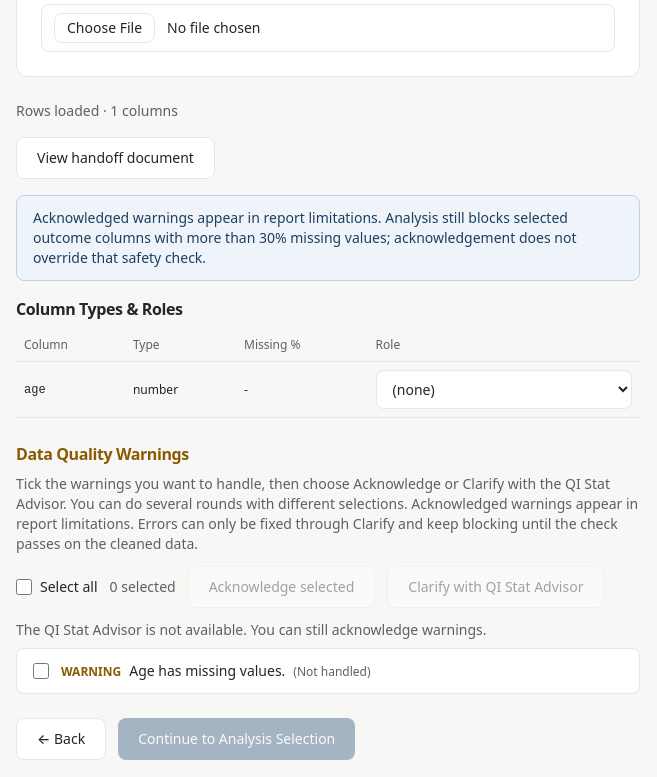
it: DataReview › disables Clarify but not Acknowledge when the advisor is unavailable
(page scrolled)
Click the checkbox labelled "Age has missing values" at (41, 671), box x1=33 y1=663 x2=49 y2=679
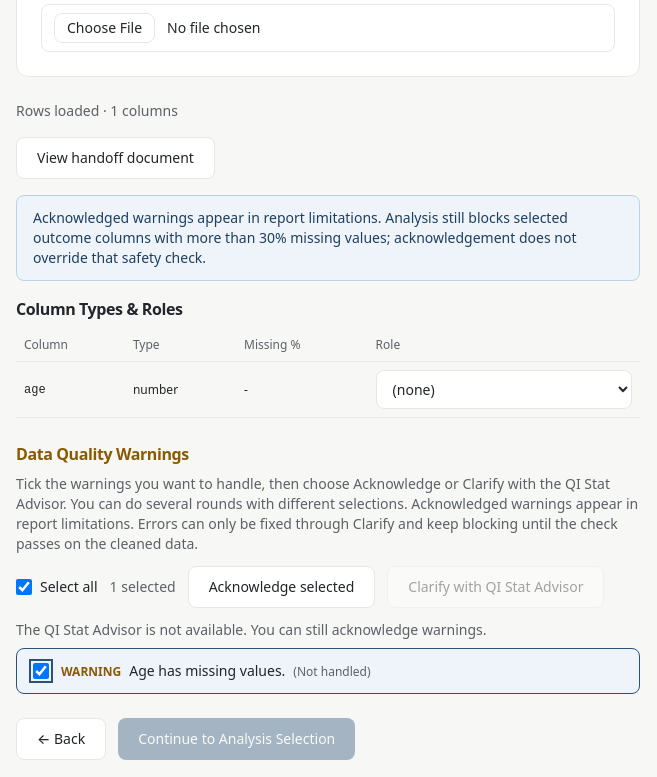
Expected: the text "The QI Stat Advisor is not available" is shown, x1=16 y1=620 x2=486 y2=639
Result: the button "Acknowledge selected" is enabled at x1=188 y1=566 x2=375 y2=608
